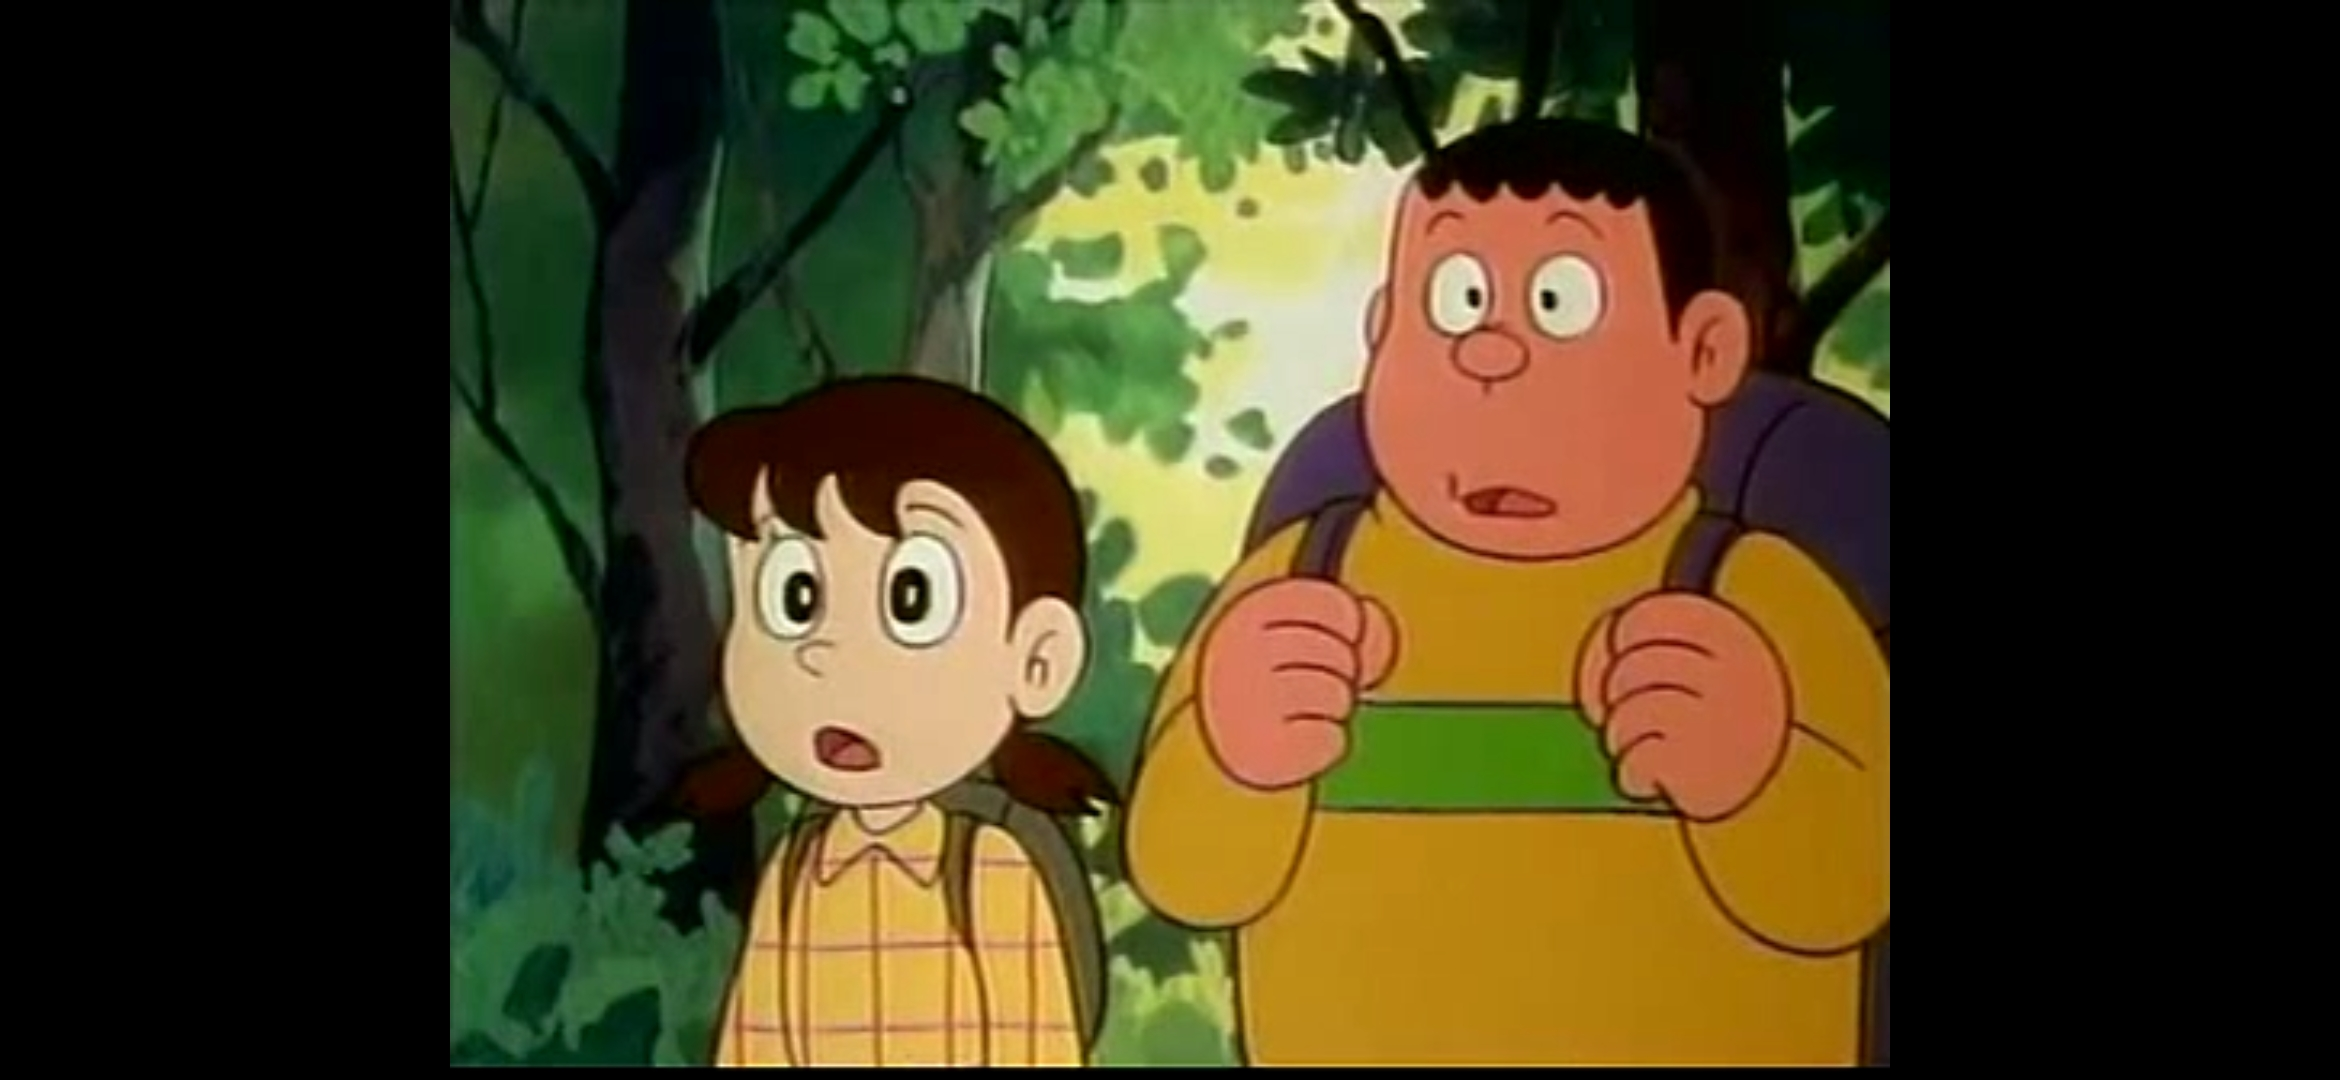Shizuka: (683, 373, 1089, 803)
Takeshi: (1363, 121, 1748, 558)
